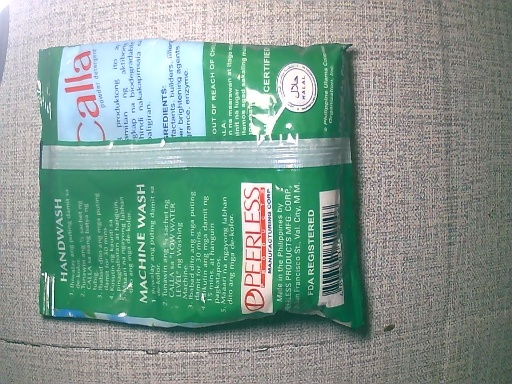plastic: (37, 44, 368, 338)
